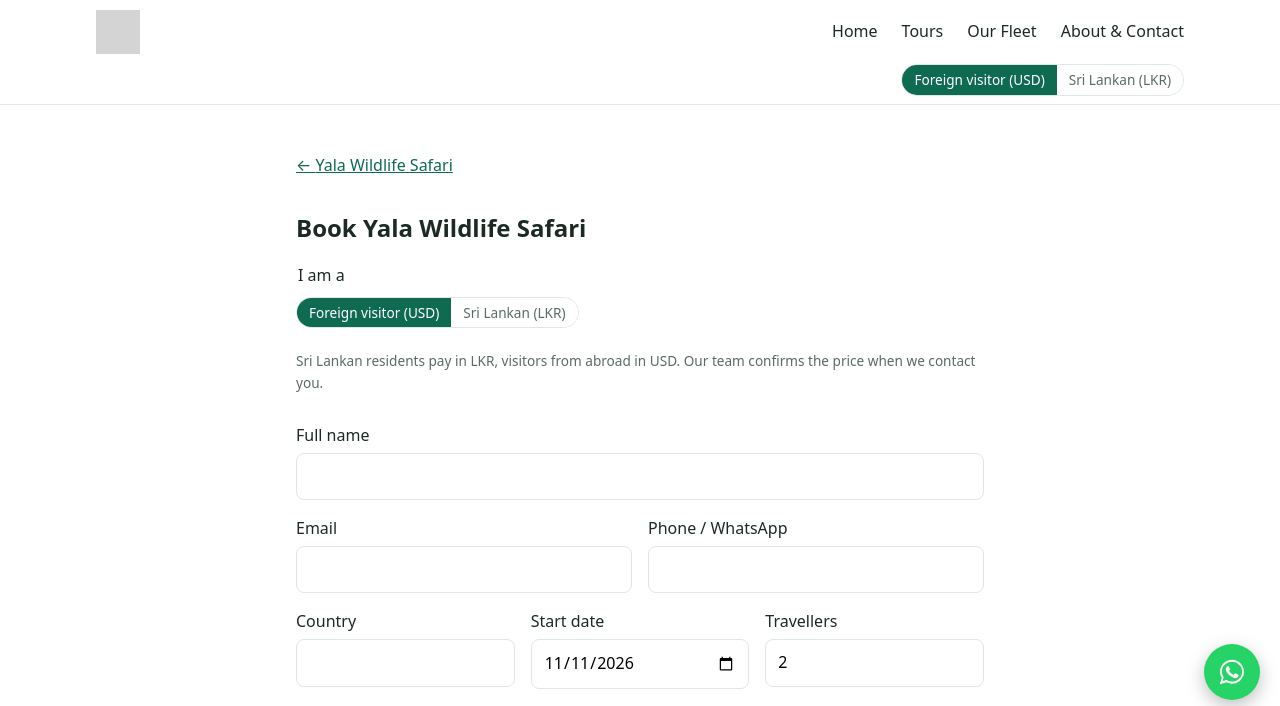
Test: booking › shows the total and sends the chosen currency
Expected: the heading "Book Yala Wildlife Safari" is shown, [296,211,586,244]
Type "Anna Schmidt" into the field labelled "Full name" at (640, 476), box [296,453,984,500]
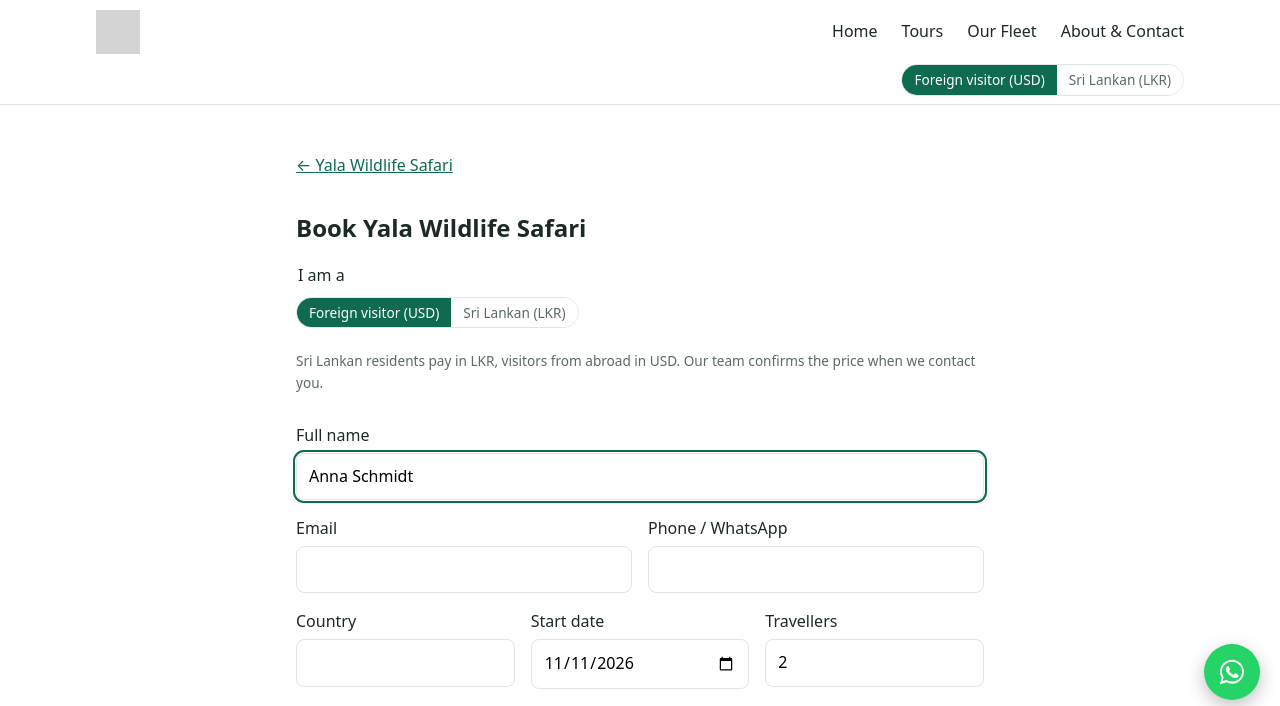
Type "anna@example.com" into the field labelled "Email" at (464, 570), box [296,546,632,593]
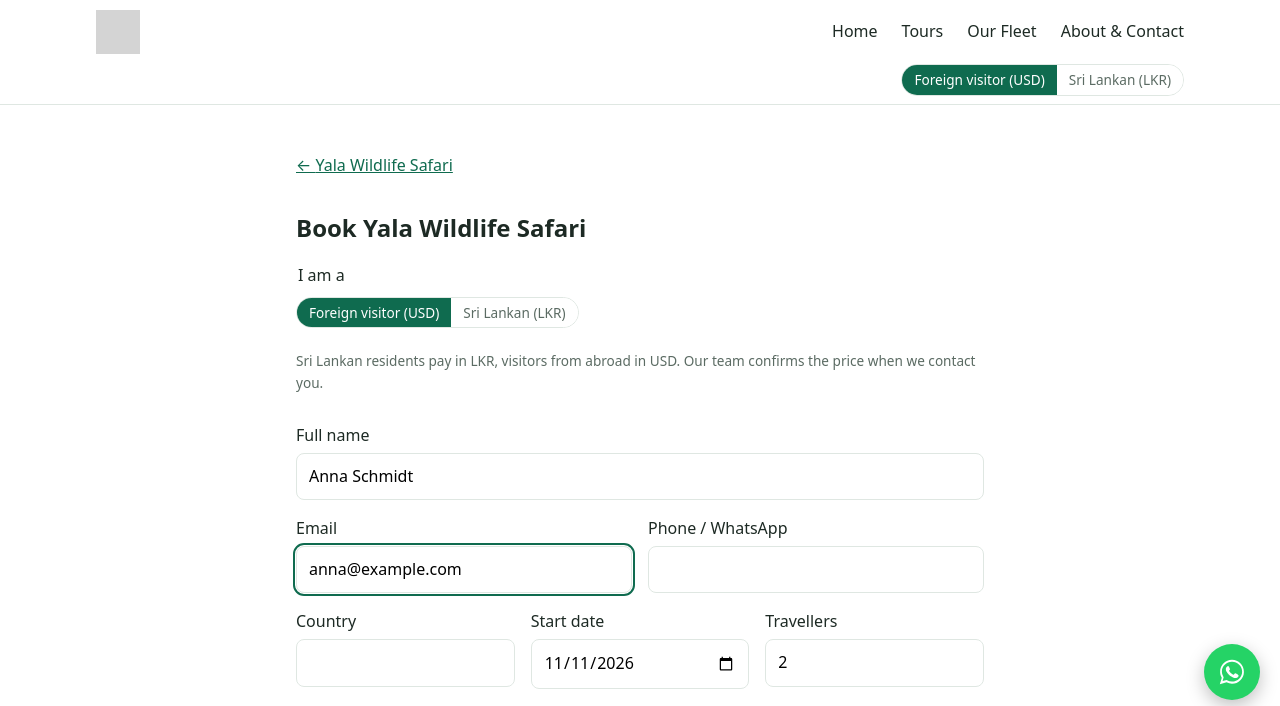
Type "+49 151 2345678" into the field labelled "Phone / WhatsApp" at (816, 570), box [648,546,984,593]
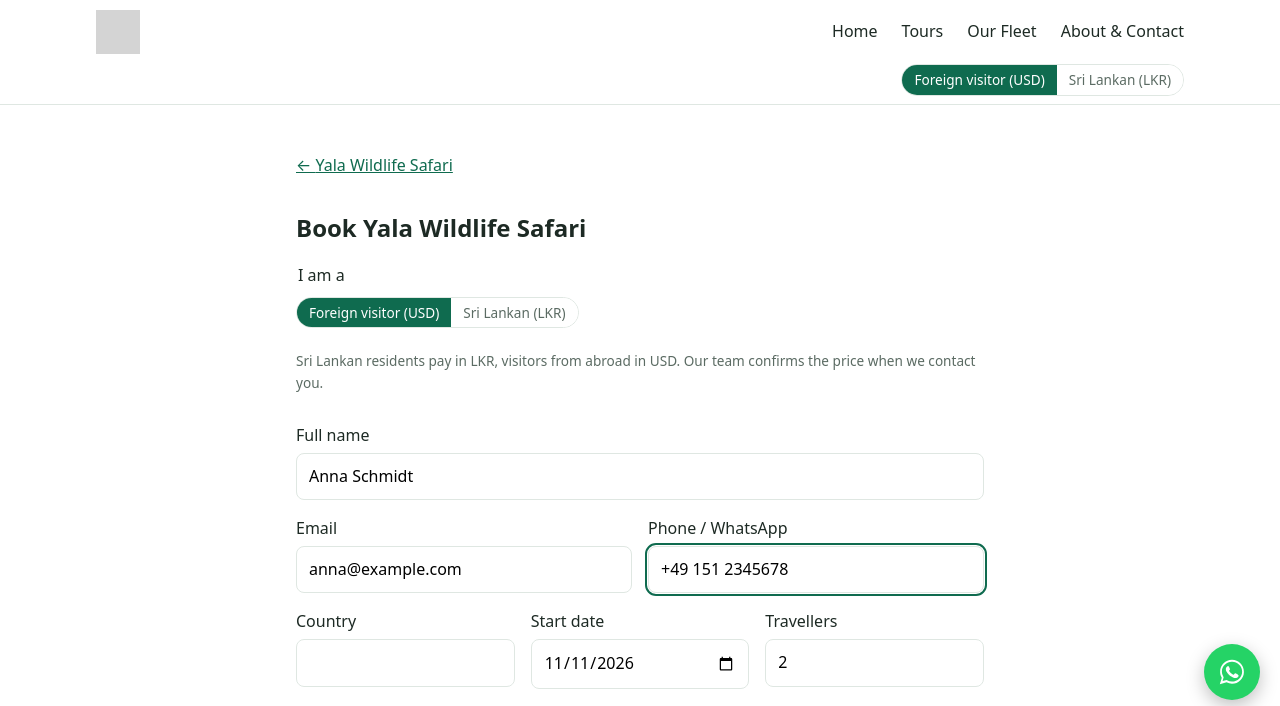
Type "Germany" into the field labelled "Country" at (405, 663), box [296,639,515,687]
(page scrolled)
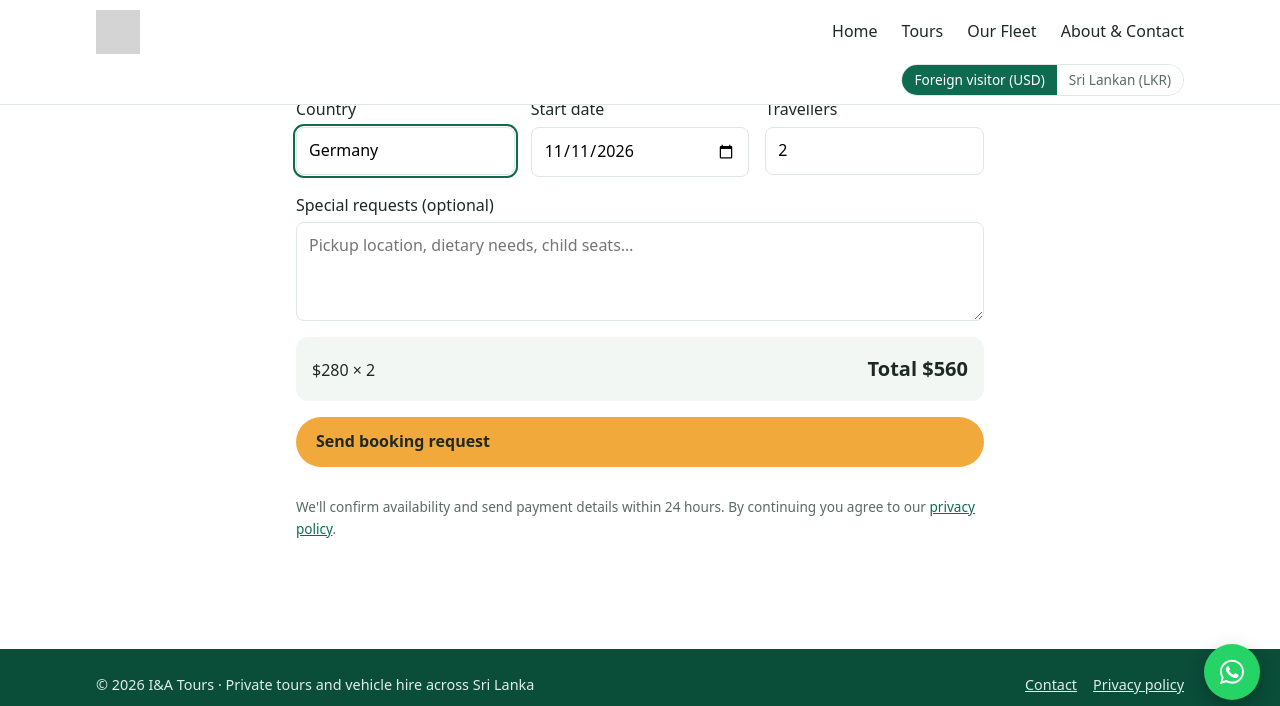
Expected: the text "Total $560" is shown, [868,353,968,385]
Click the button "Send booking request" at (403, 441), box [296,417,984,466]
(page scrolled)
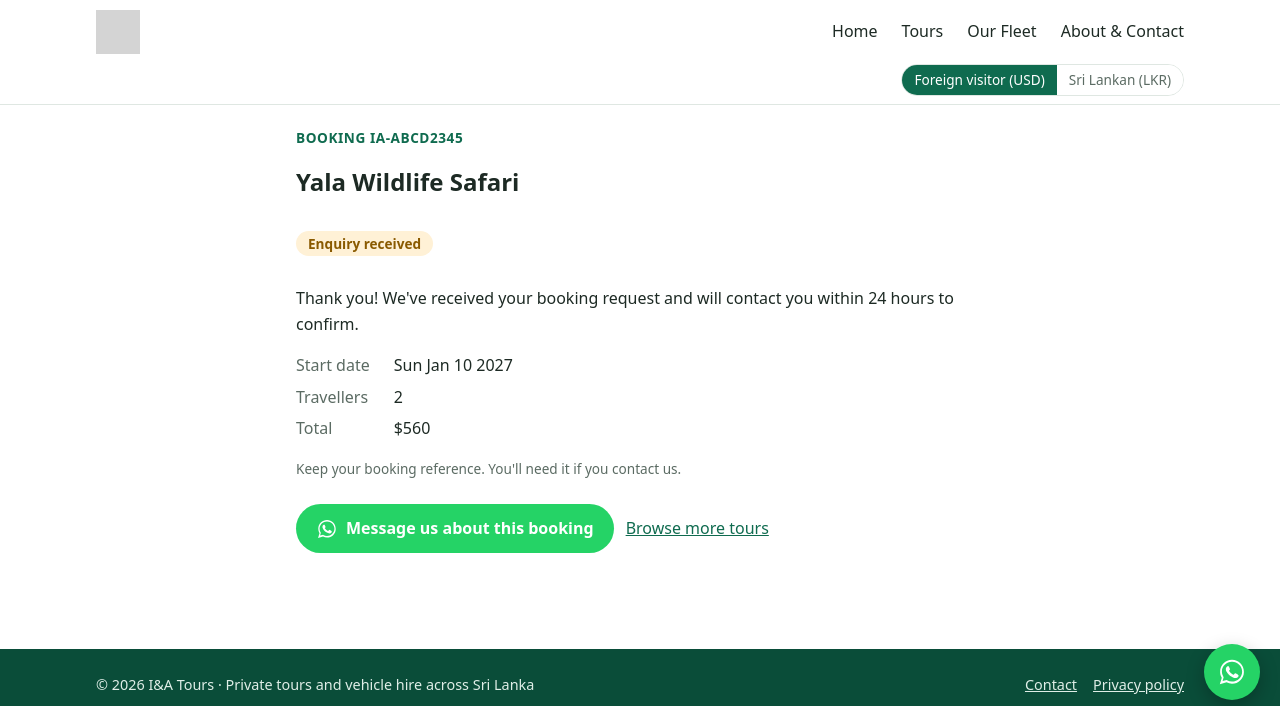
Expected: the text "Enquiry received" is shown, [296,231,433,256]
